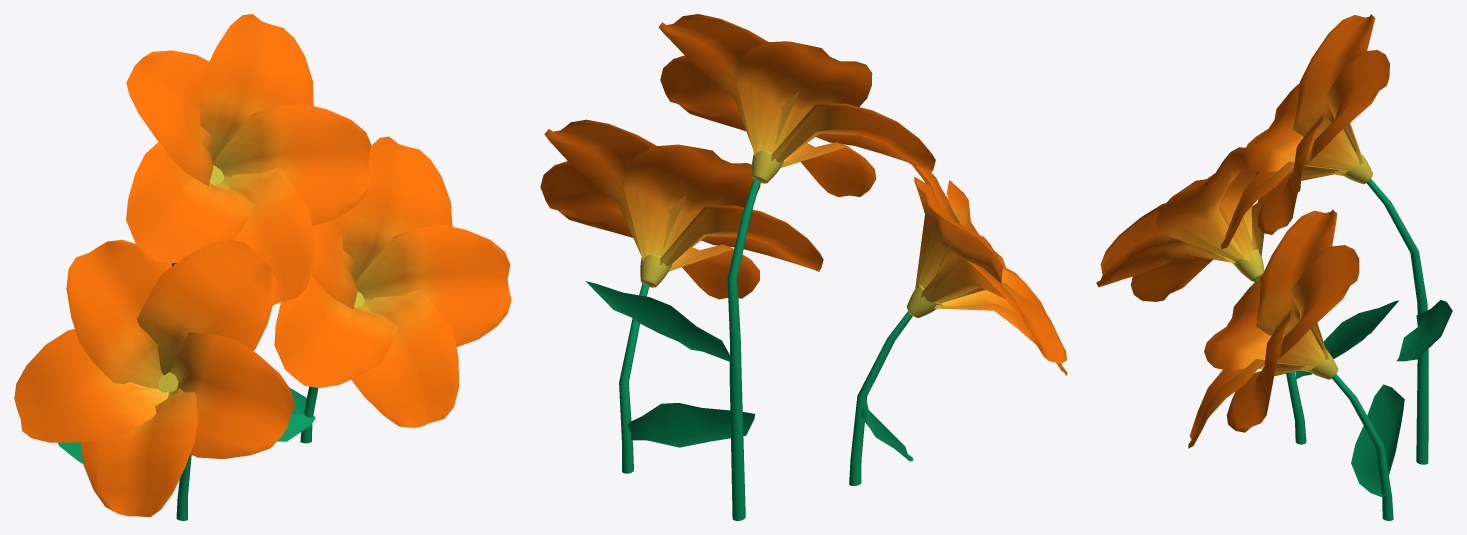
Rendered from Flowers3.fbx.
3 views of the same model, side by side, from view 1: azimuth 30°, elevation 25°; view 2: azimuth 150°, elevation 25°; view 3: azimuth 270°, elevation 25° (orthographic). The views are drawn at different scales.
Parts seen in each view (by area): view 1: Flower3_Bundle; view 2: Flower3_Bundle; view 3: Flower3_Bundle.
Boxes of the visible parts, left/top/right/bottom form: Flower3_Bundle: left=14, top=14, right=511, bottom=520; Flower3_Bundle: left=540, top=14, right=1067, bottom=520; Flower3_Bundle: left=1096, top=14, right=1452, bottom=520.
Bounding box in the file's own units: 8.97 × 7.85 × 5.81.
Materials: 3 (1 with a texture image).
